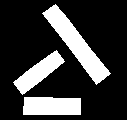parkingspot: (42, 4, 110, 84), (13, 50, 64, 94), (23, 97, 80, 114)
